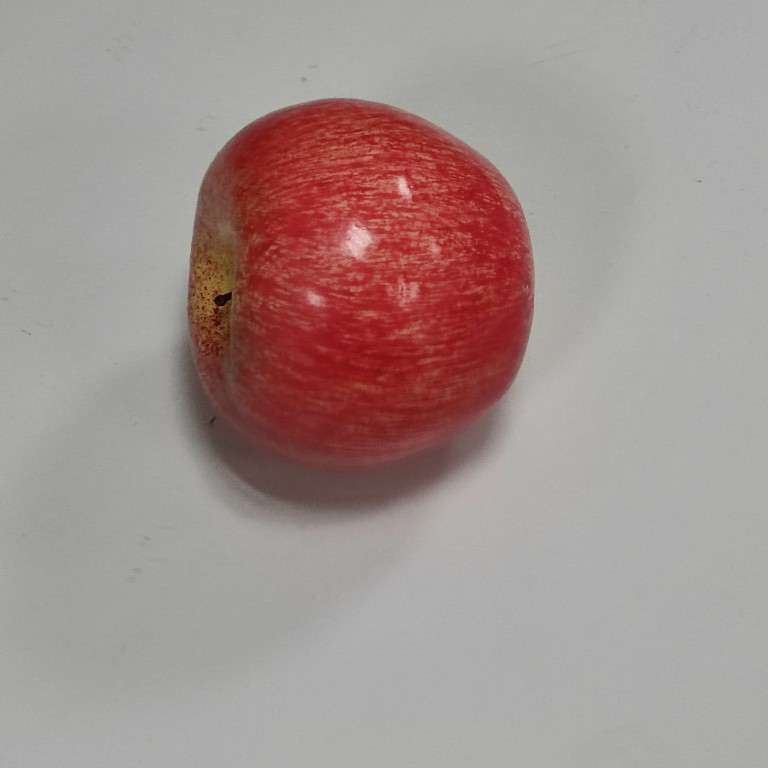fruit_apple: (181, 93, 542, 476)
